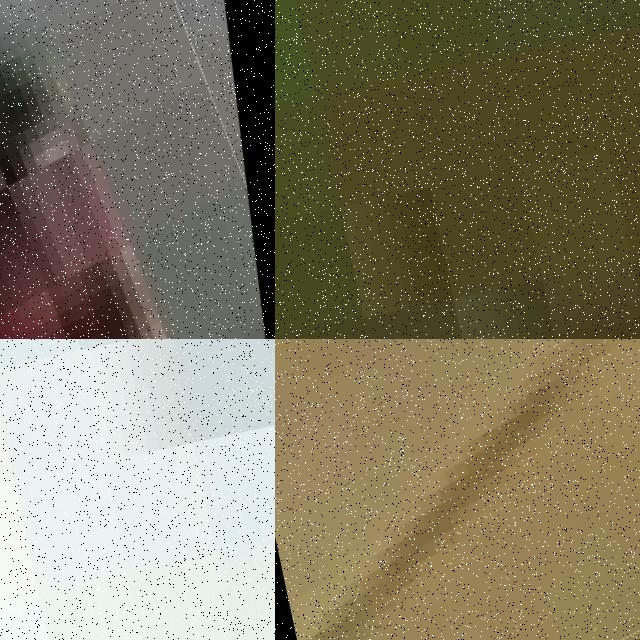drone: (275, 339, 640, 640), (0, 0, 275, 339)
